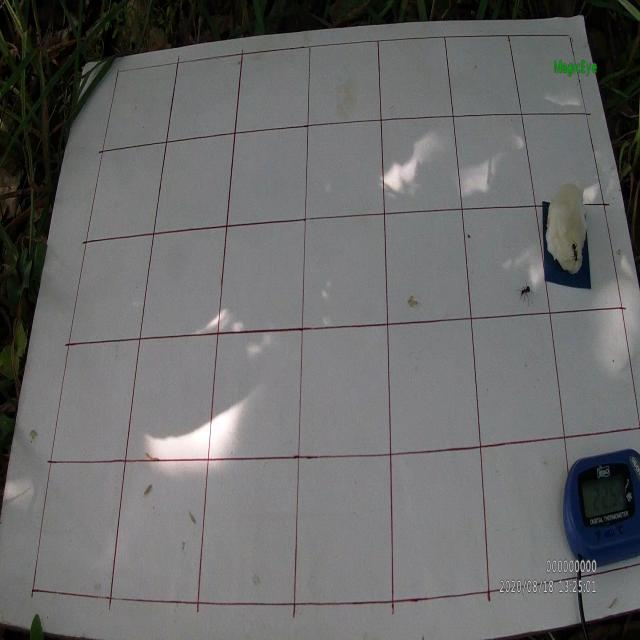Ant: (515, 283, 534, 306), (568, 238, 579, 265)
